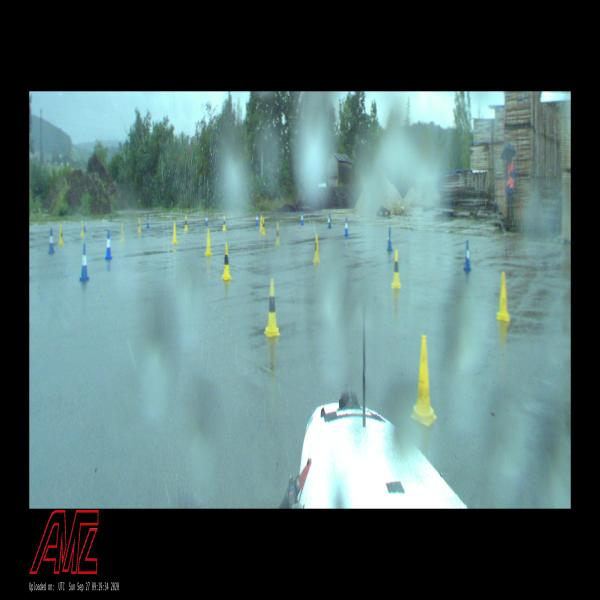blue_cone: (79, 244, 89, 280), (463, 241, 472, 272), (105, 231, 112, 259), (48, 228, 55, 253), (387, 228, 393, 252), (344, 217, 349, 236), (327, 213, 332, 228), (300, 212, 304, 226), (146, 215, 150, 228), (255, 213, 259, 226), (205, 214, 208, 226)
yellow_cone: (410, 334, 436, 426), (264, 279, 281, 336), (496, 272, 510, 321), (391, 249, 401, 288), (221, 245, 232, 279), (313, 234, 321, 263), (204, 229, 212, 256), (172, 222, 178, 244), (58, 225, 64, 245), (276, 222, 280, 246), (80, 220, 85, 237), (120, 222, 124, 242), (262, 218, 266, 237), (222, 214, 226, 231), (260, 215, 264, 231), (137, 218, 141, 233), (184, 216, 188, 231)
